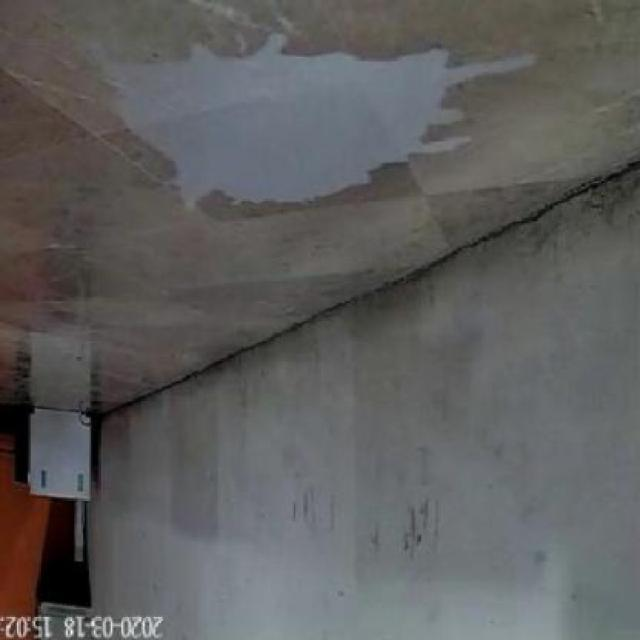spillage: (96, 33, 536, 202)
